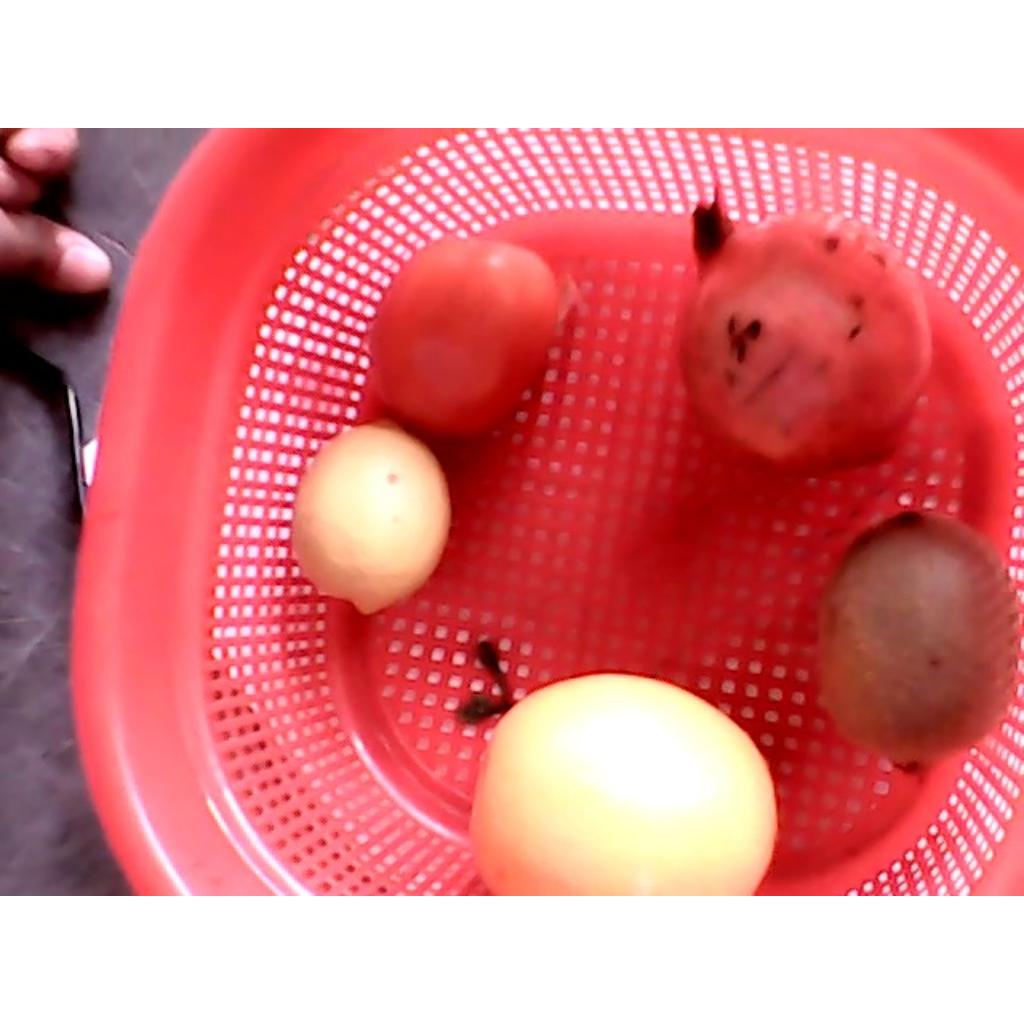kiwi: (818, 508, 1018, 775)
lemon: (287, 424, 450, 616)
orange: (465, 676, 778, 894)
pomegranate: (678, 190, 929, 484)
tomato: (366, 232, 563, 440)
